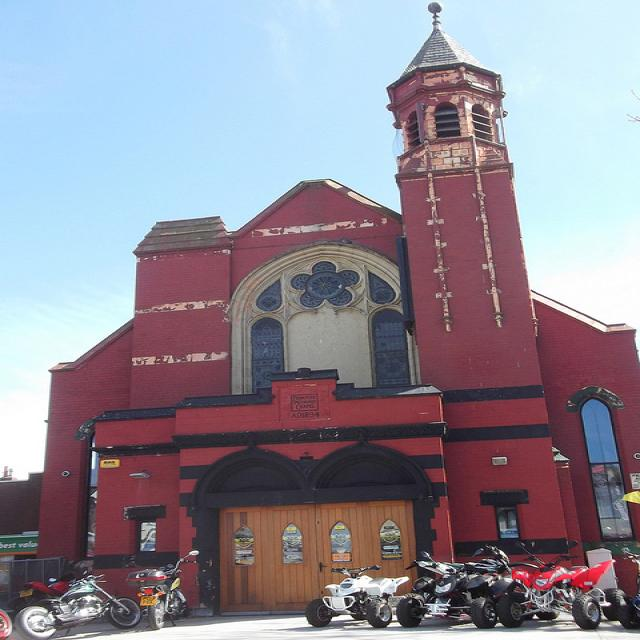motor: (488, 539, 616, 632), (396, 546, 511, 630), (12, 574, 143, 640), (305, 562, 412, 627), (133, 549, 203, 640), (5, 570, 90, 613), (602, 547, 640, 628)
